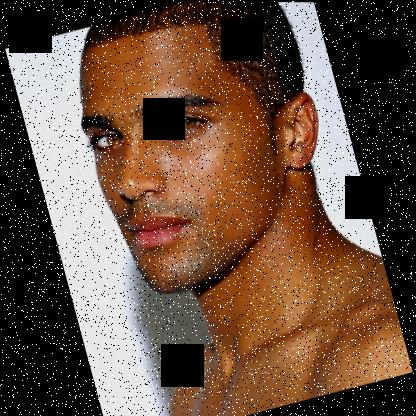Male: (58, 0, 352, 304)
